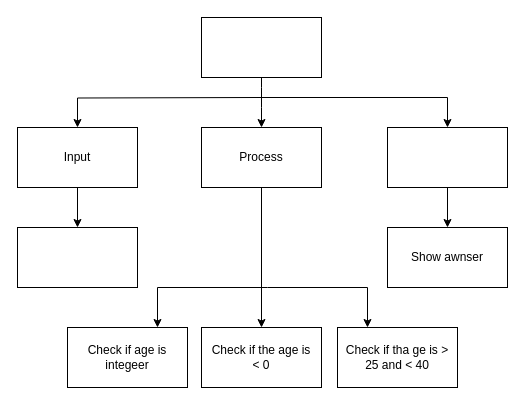
Some shapes in this 525 by 405 pixel diagram are drawn without their labels. The box of each missing label's shape, as (x1, y1, x2, y2) in pixels:
Get age: (16, 226, 138, 288)
Grandmas approval age: (200, 16, 322, 78)
Output: (386, 126, 508, 188)
